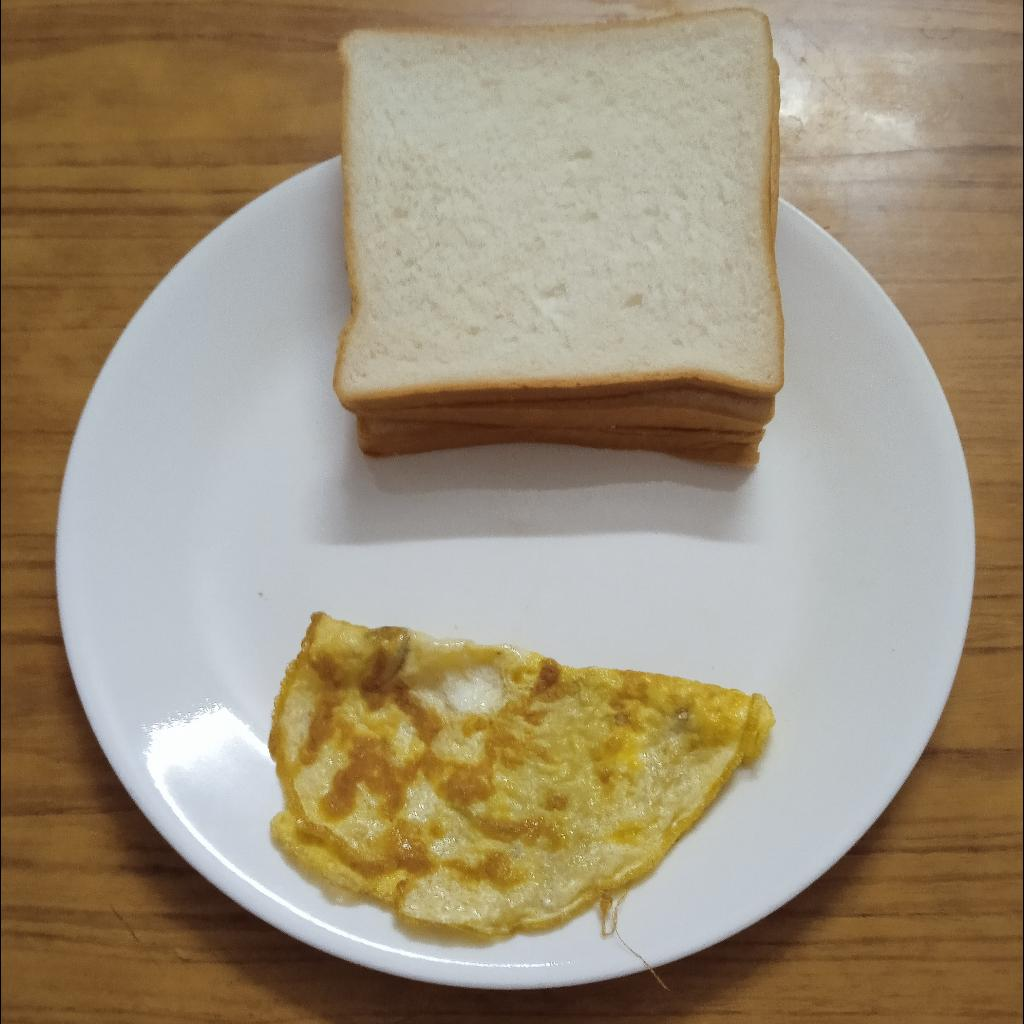bread: (334, 7, 785, 469)
egg-poached: (269, 611, 777, 936)
